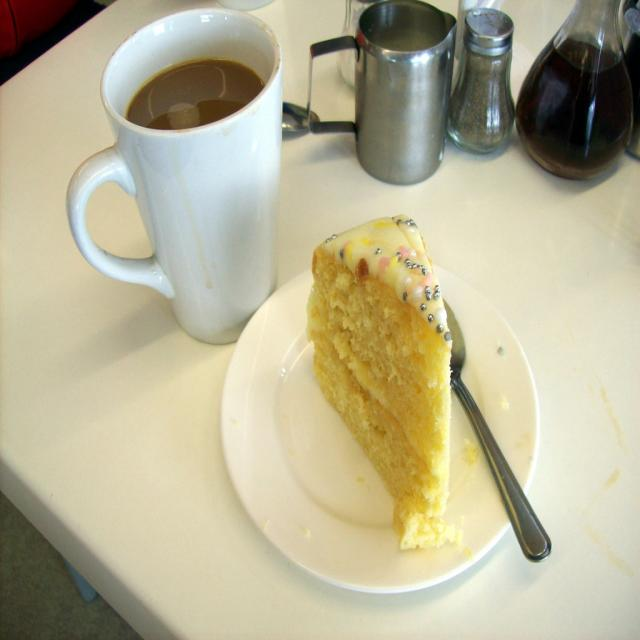Coffee: (129, 55, 262, 130)
Tea: (127, 58, 266, 131)
